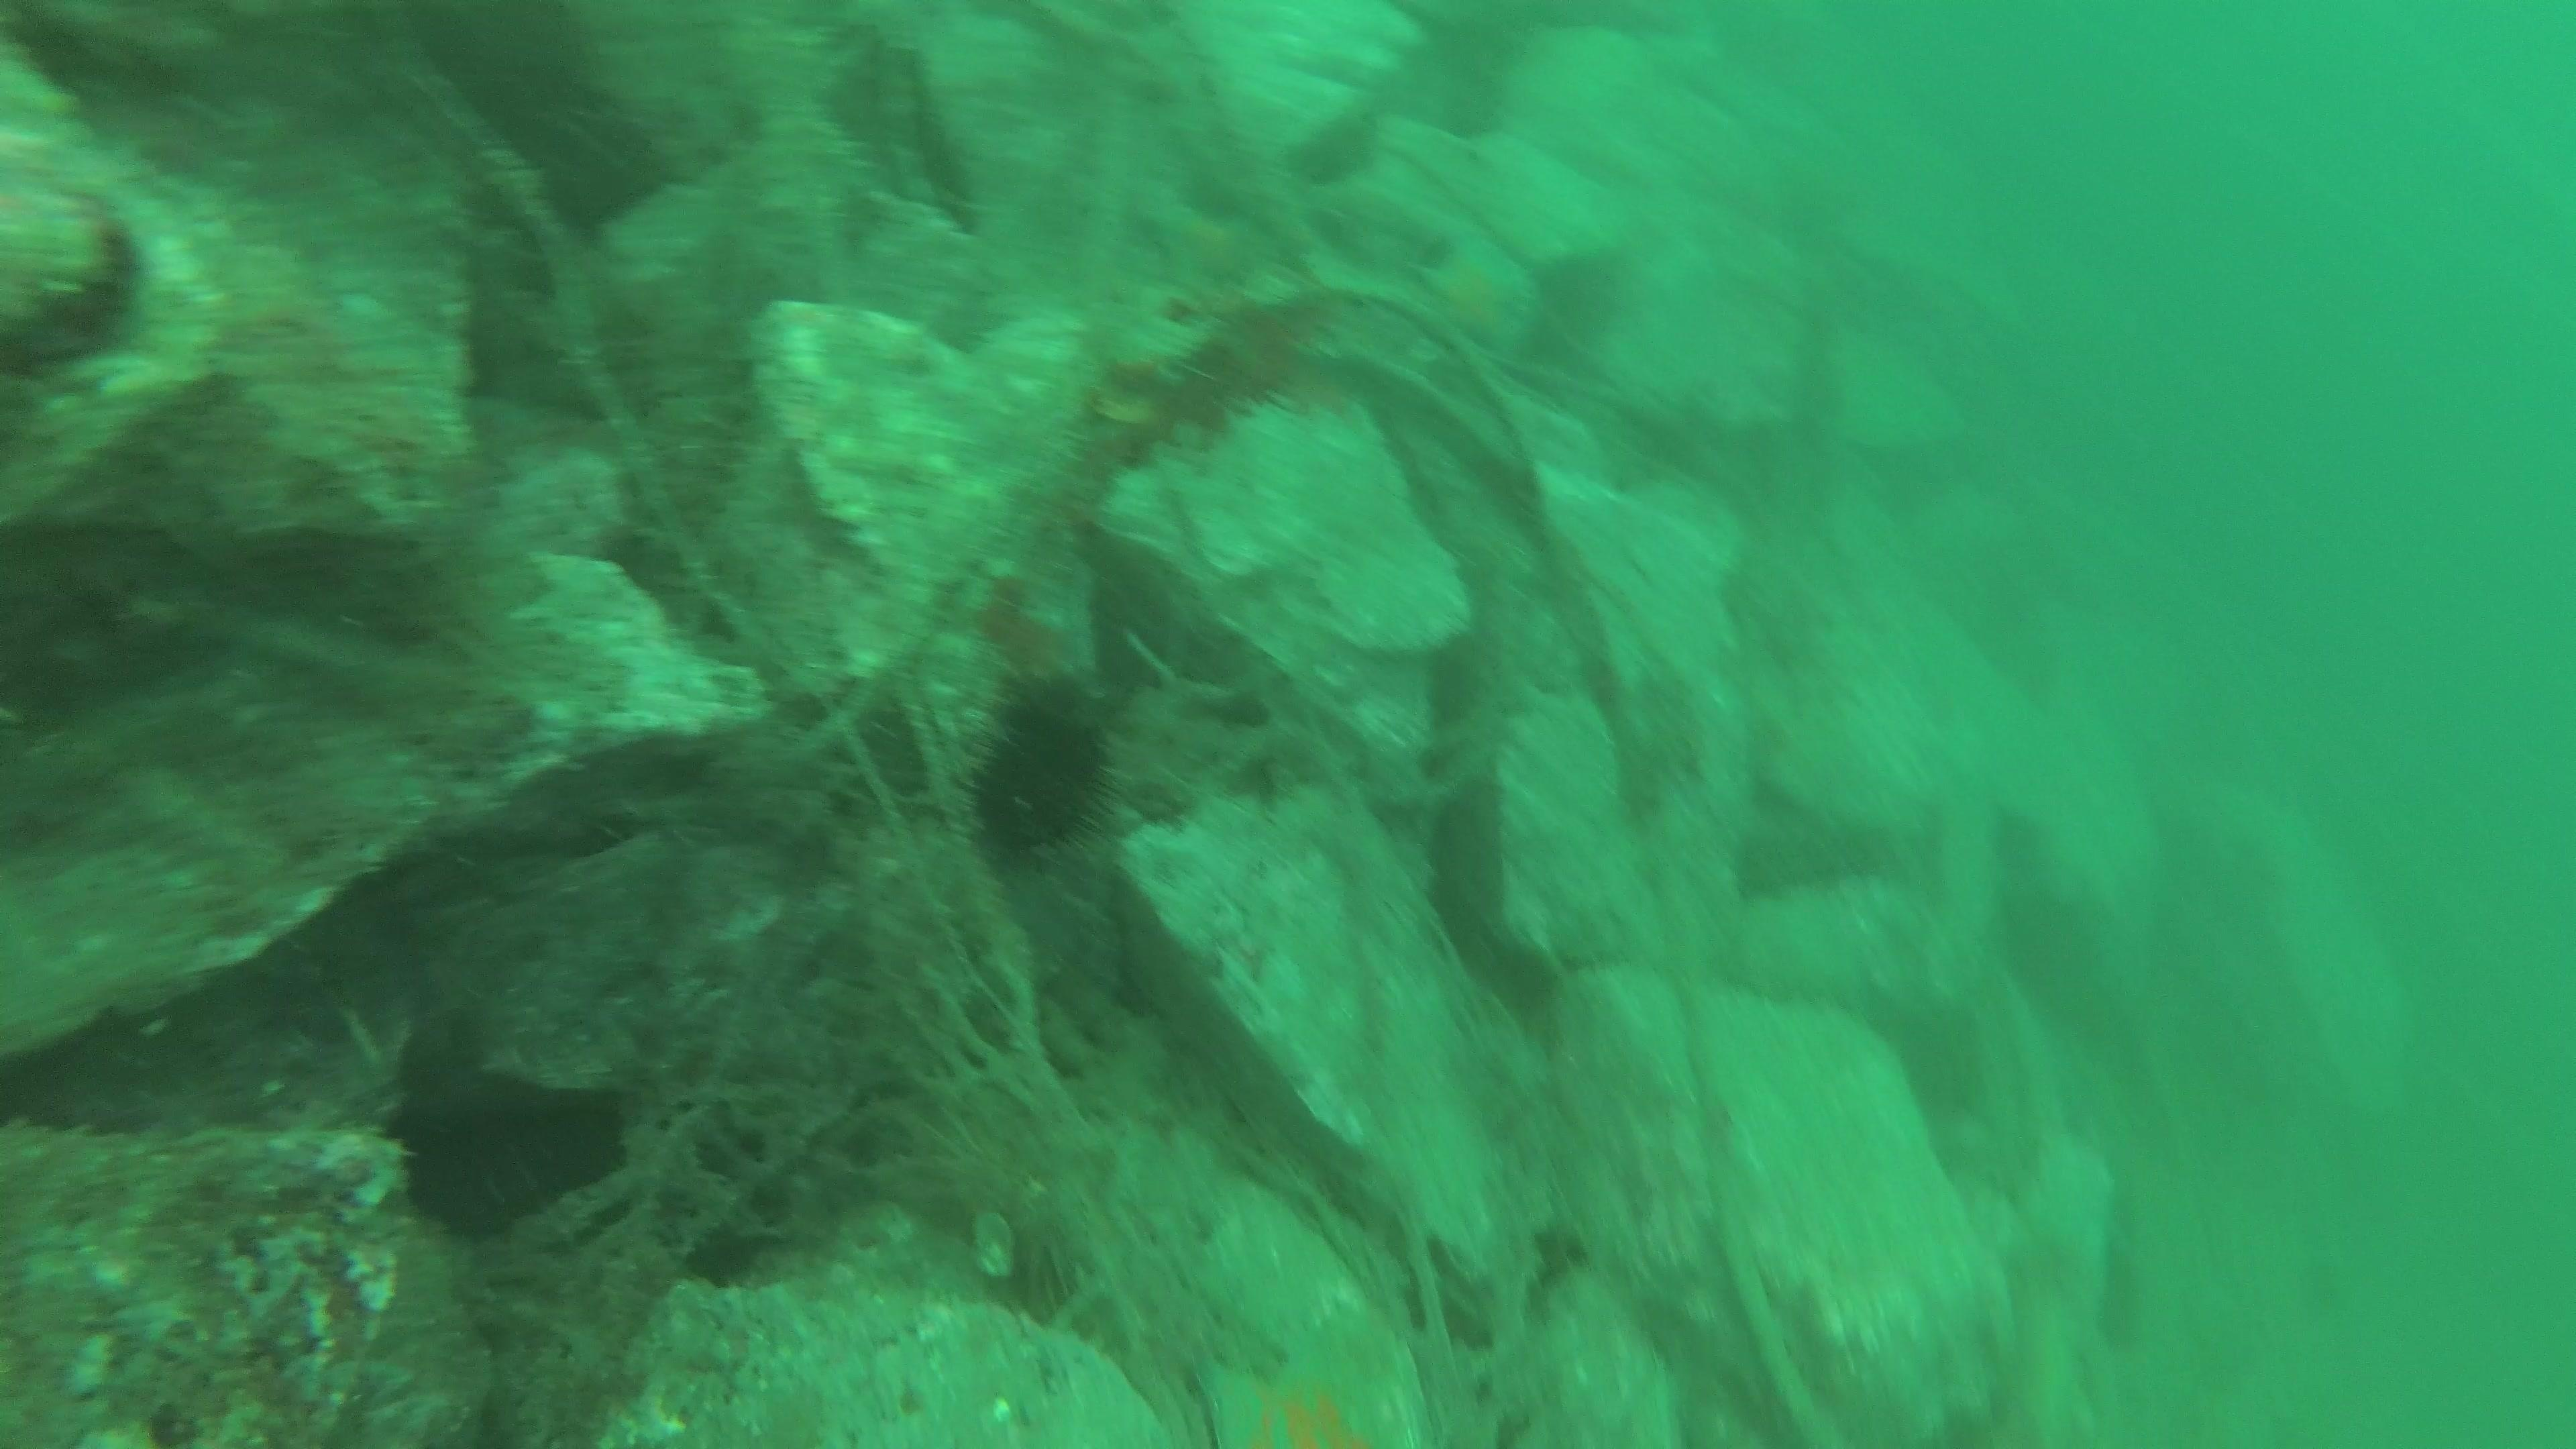echinus: (961, 685, 1125, 865)
starfish: (1191, 1313, 1424, 1444), (1412, 230, 1545, 364), (1132, 189, 1276, 297)
